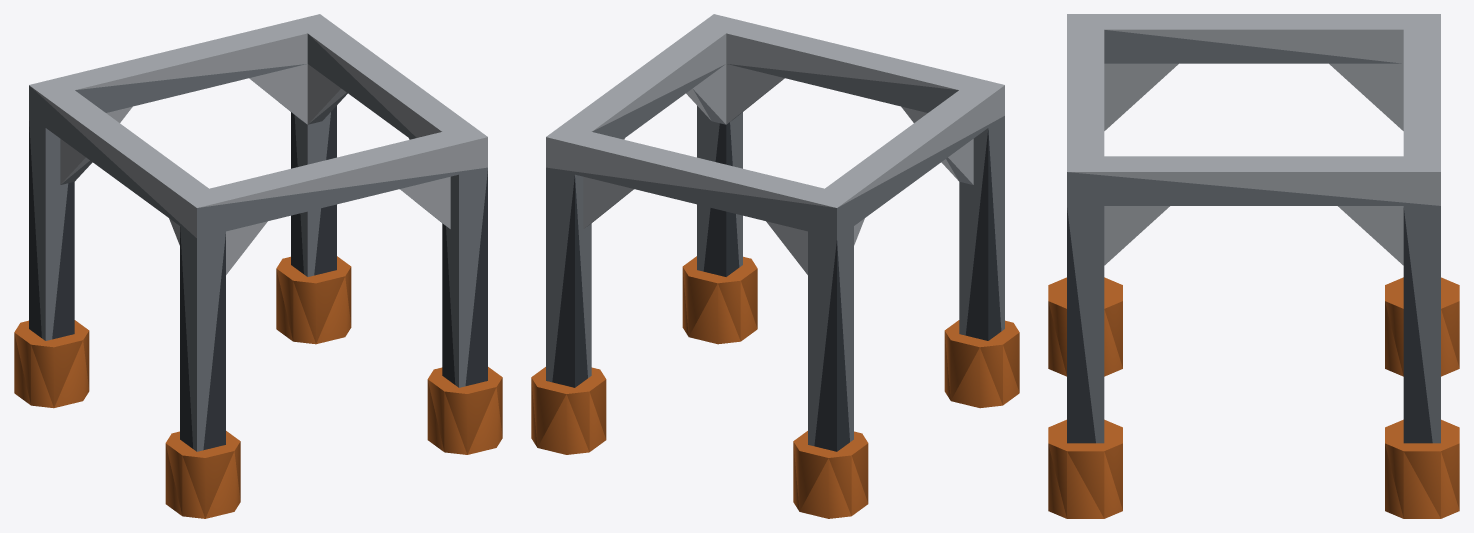
File: Kit_structure-barrier.fbx
3 renders of one model, left to right at view 1: azimuth 30°, elevation 25°; view 2: azimuth 150°, elevation 25°; view 3: azimuth 270°, elevation 25°, orthographic. The views are drawn at different scales.
Parts seen in each view (by area): view 1: Kit_structure-barrier; view 2: Kit_structure-barrier; view 3: Kit_structure-barrier.
Boxes of the visible parts, x1,y1,x2,y2 form: Kit_structure-barrier: (14, 14, 502, 518); Kit_structure-barrier: (531, 14, 1019, 518); Kit_structure-barrier: (1048, 14, 1459, 518).
Size of the model in its own units: 1.1 by 1 by 1.1.
